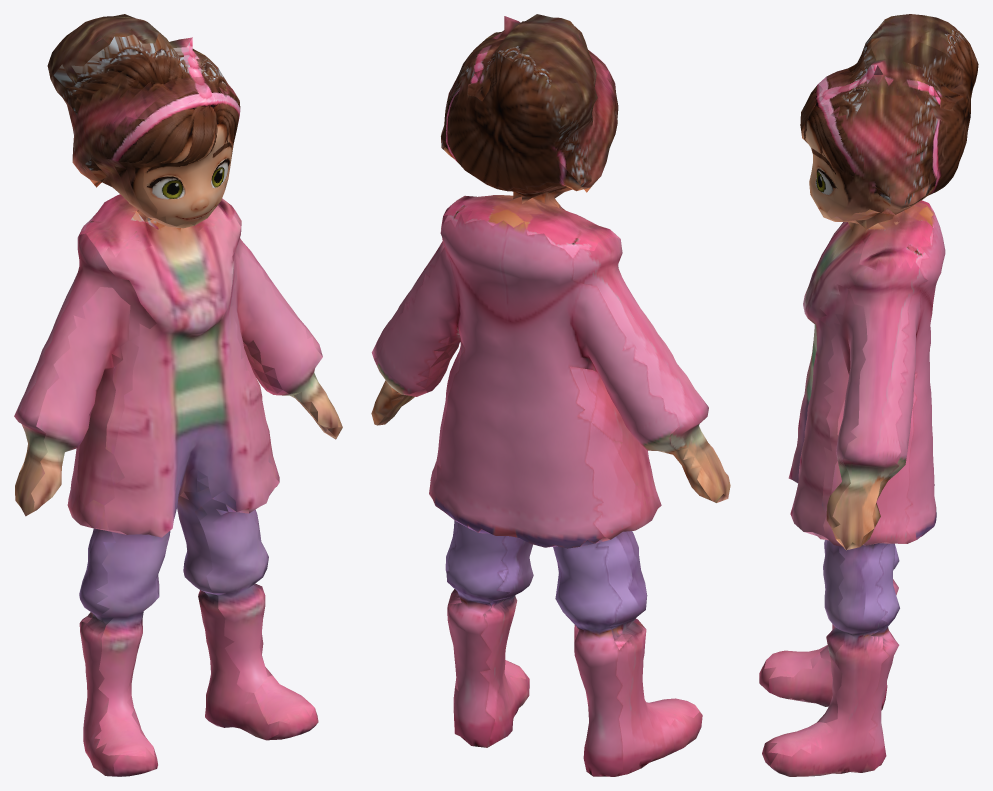
Rendered from candy-glow-toon.glb.
The picture shows the model from 3 angles, left to right: view 1: azimuth 30°, elevation 25°; view 2: azimuth 150°, elevation 25°; view 3: azimuth 270°, elevation 25°; orthographic projection. The views are drawn at different scales.
Visible parts, largest first — view 1: world; view 2: world; view 3: world.
Boxes of the visible parts, bbox=[...] form: world: bbox=[14, 14, 342, 776]; world: bbox=[371, 14, 730, 776]; world: bbox=[759, 14, 978, 776].
Size of the model in its own units: 0.4444 by 0.9288 by 0.2616.
1 material, 1 textured.
